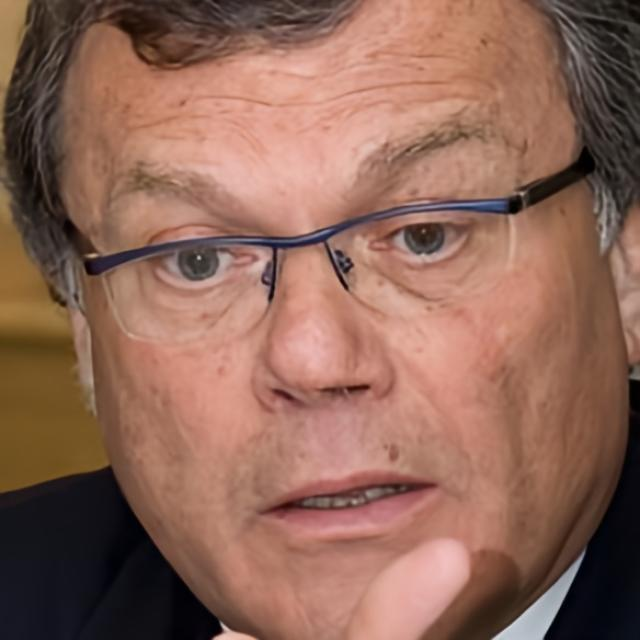surprise: (54, 0, 630, 640)
